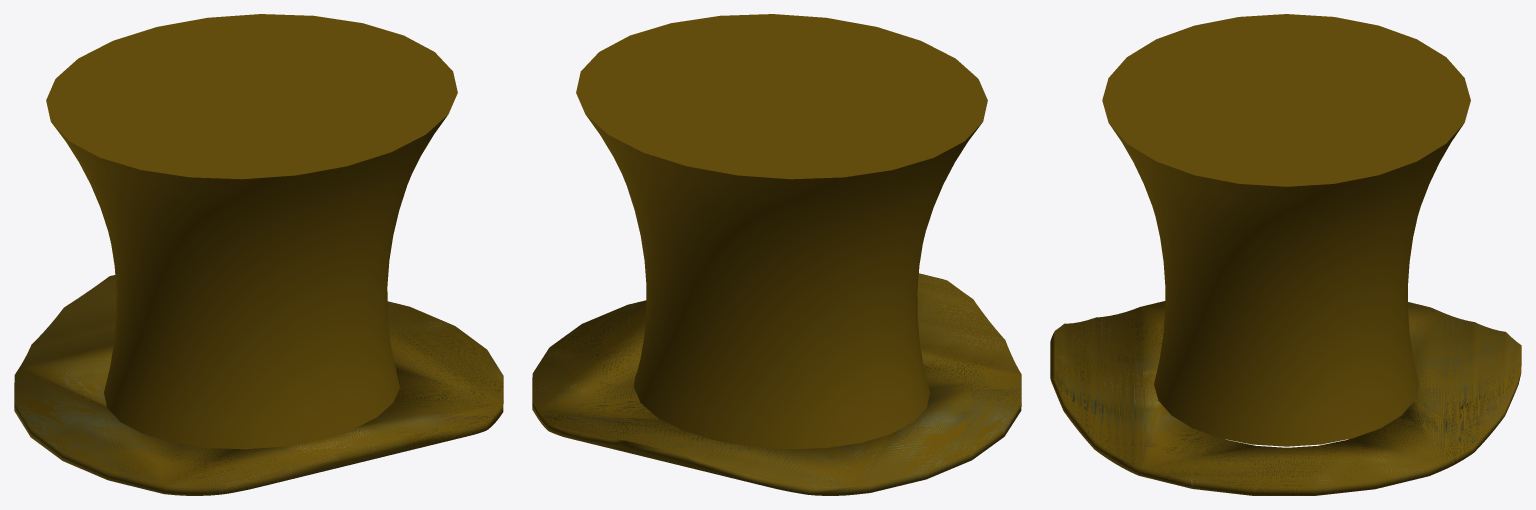
The model's file is madhat.dae.
3 views of the same model, side by side, from view 1: azimuth 30°, elevation 25°; view 2: azimuth 150°, elevation 25°; view 3: azimuth 270°, elevation 25° (orthographic). The views are drawn at different scales.
Parts seen in each view (by area): view 1: Componente_1, group_0; view 2: Componente_1, group_0; view 3: Componente_1, group_0.
Part boxes in pixels (left/top/right/bottom): Componente_1: left=46, top=14, right=457, bottom=449; group_0: left=14, top=275, right=503, bottom=495; Componente_1: left=576, top=14, right=987, bottom=449; group_0: left=532, top=273, right=1021, bottom=495; Componente_1: left=1102, top=14, right=1470, bottom=446; group_0: left=1050, top=301, right=1521, bottom=495.
Bounding box in the file's own units: 89.82 × 89.32 × 61.17.
